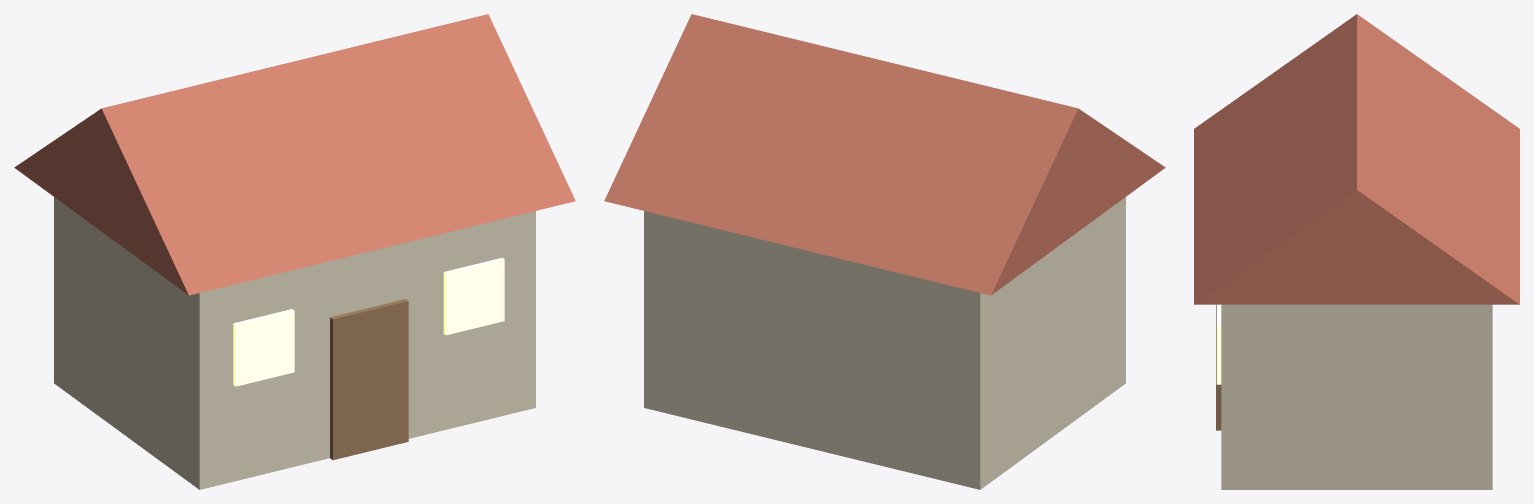
File: Дом.glb
3 views of the same model, side by side, from view 1: azimuth 30°, elevation 25°; view 2: azimuth 150°, elevation 25°; view 3: azimuth 270°, elevation 25° (orthographic). The views are drawn at different scales.
Visible parts, largest first — view 1: Дом; view 2: Дом; view 3: Дом.
Part boxes in pixels (<box>): Дом: <box>14,14,575,489</box>; Дом: <box>604,14,1165,489</box>; Дом: <box>1194,14,1519,489</box>.
Size of the model in its own units: 4.6 by 3.8 by 3.6.
